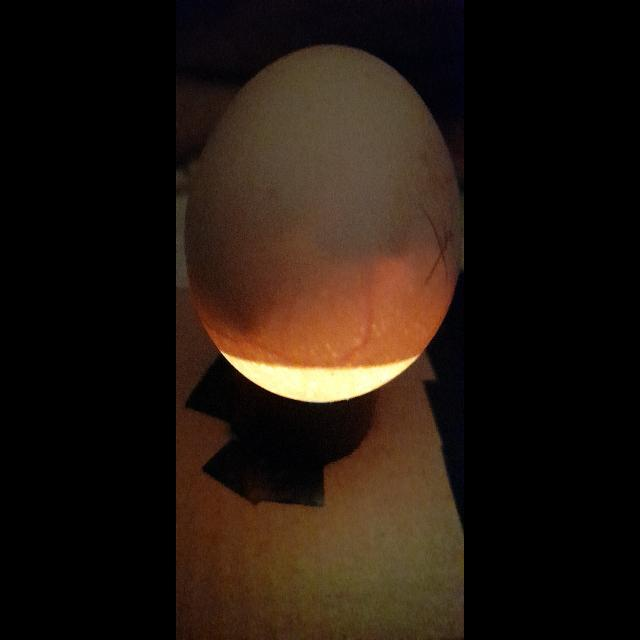Fertile: (179, 41, 461, 402)
